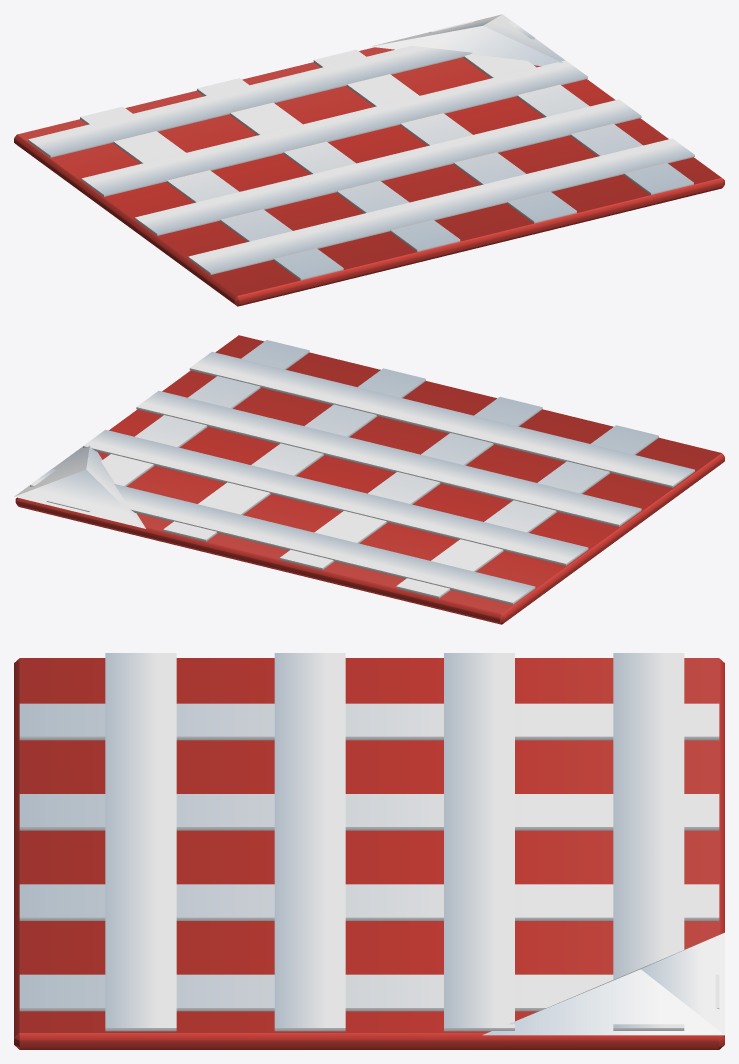
The model's file is ck_picnic_blanket.fbx.
The picture shows the model from 3 angles, top to bottom: view 1: azimuth 30°, elevation 25°; view 2: azimuth 150°, elevation 25°; view 3: azimuth 270°, elevation 25°; orthographic projection. The views are drawn at different scales.
Visible parts, largest first — view 1: ck_picnic_blanket; view 2: ck_picnic_blanket; view 3: ck_picnic_blanket.
Part boxes in pixels (x1,y1,x2,y2): ck_picnic_blanket: (14, 14, 724, 306); ck_picnic_blanket: (14, 335, 724, 624); ck_picnic_blanket: (14, 653, 724, 1049).
Size of the model in its own units: 390 by 22.75 by 309.
